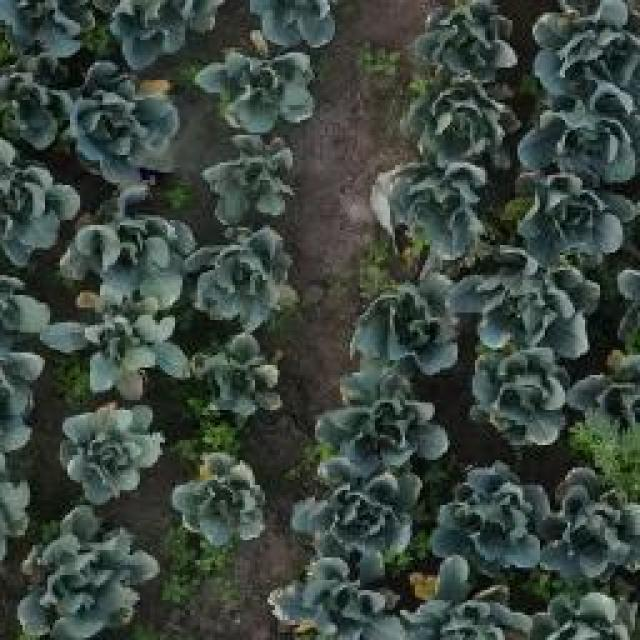cabbage: (16, 504, 158, 638), (317, 366, 448, 473), (475, 249, 596, 359), (518, 73, 640, 182), (68, 200, 190, 303), (57, 300, 189, 395), (350, 273, 469, 378), (462, 341, 573, 453), (296, 464, 424, 560), (386, 143, 490, 261), (74, 61, 179, 175), (266, 555, 403, 640), (58, 396, 166, 503), (537, 465, 640, 575), (399, 554, 530, 640), (192, 223, 299, 327), (438, 460, 542, 566), (516, 175, 632, 269), (201, 45, 315, 139), (408, 66, 517, 160), (171, 449, 270, 548), (200, 137, 298, 224), (0, 55, 80, 157), (0, 160, 76, 266), (425, 0, 520, 83), (113, 0, 220, 72), (200, 327, 283, 418), (0, 0, 87, 65)
